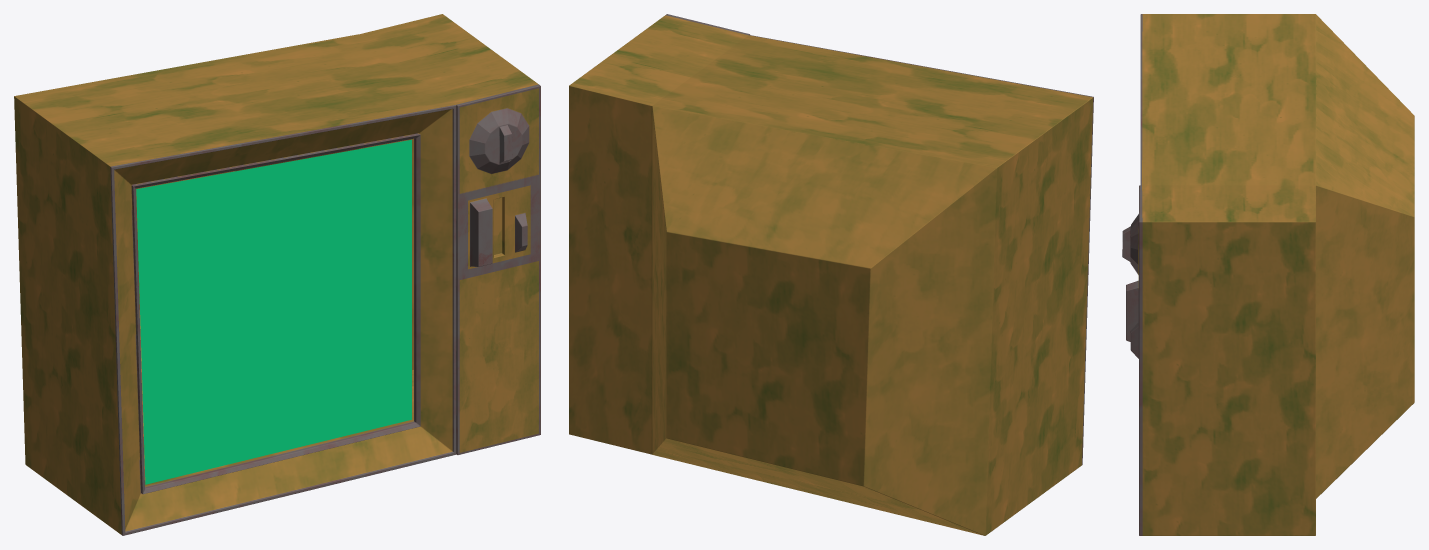
The picture shows the model from 3 angles, left to right: view 1: azimuth 30°, elevation 25°; view 2: azimuth 150°, elevation 25°; view 3: azimuth 270°, elevation 25°; orthographic projection. The views are drawn at different scales.
Visible parts, largest first — view 1: TV, TVScreen; view 2: TV; view 3: TV.
Part boxes in pixels (x1=…): TV: x1=14, y1=14, x2=540, y2=535; TVScreen: x1=136, y1=139, x2=411, y2=484; TV: x1=569, y1=14, x2=1093, y2=535; TV: x1=1122, y1=14, x2=1414, y2=535.
Bounding box in the file's own units: 257 × 213 × 169.
